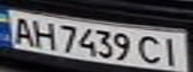3: (93, 28, 115, 60)
4: (75, 25, 96, 57)
7: (54, 22, 78, 54)
9: (112, 29, 136, 62)
A: (6, 15, 36, 45)
C: (136, 34, 166, 65)
H: (30, 18, 60, 51)
I: (157, 35, 187, 68)
